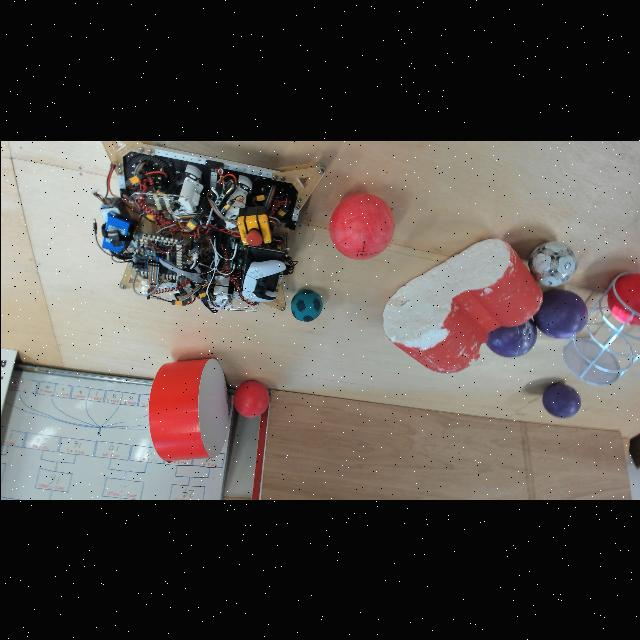P: (482, 308, 536, 358), (532, 290, 588, 338), (542, 384, 580, 418)
R: (328, 192, 394, 260), (606, 272, 640, 326), (233, 380, 269, 418)
S: (558, 269, 640, 386)
